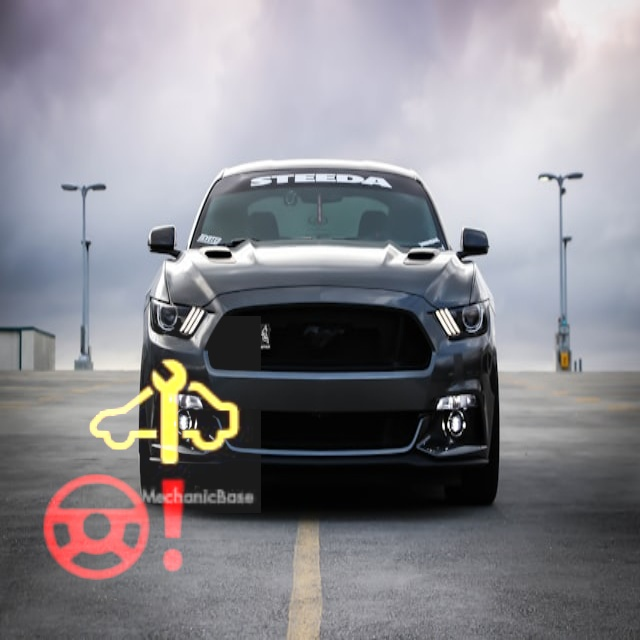symbol: (64, 316, 261, 513), (30, 444, 198, 612)
